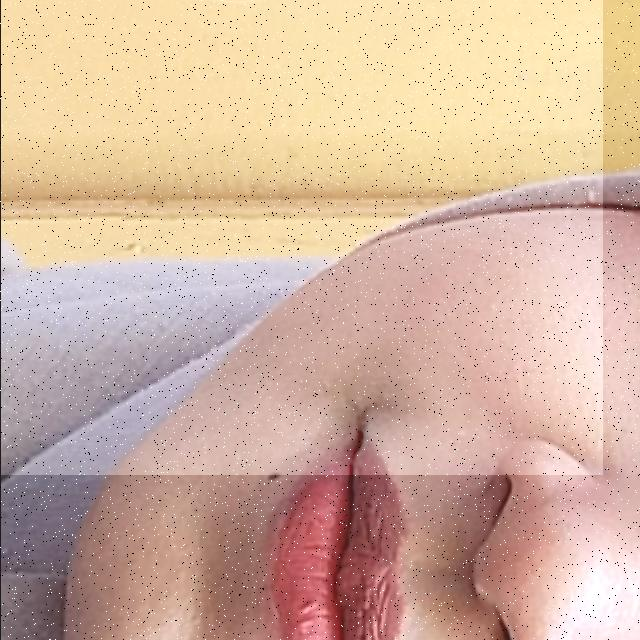baik: (0, 0, 602, 475)
